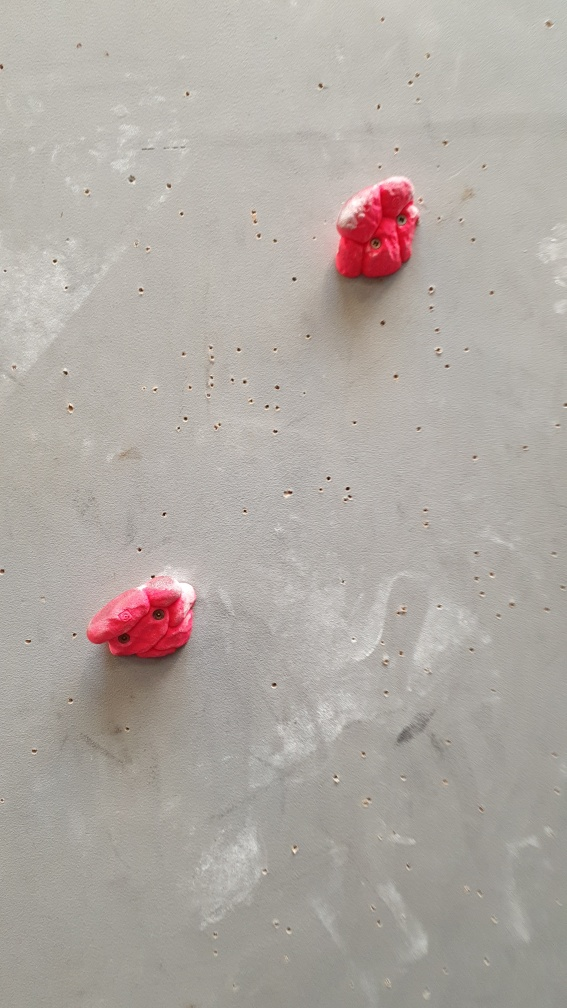Jug: (85, 569, 200, 667), (331, 173, 426, 286)
